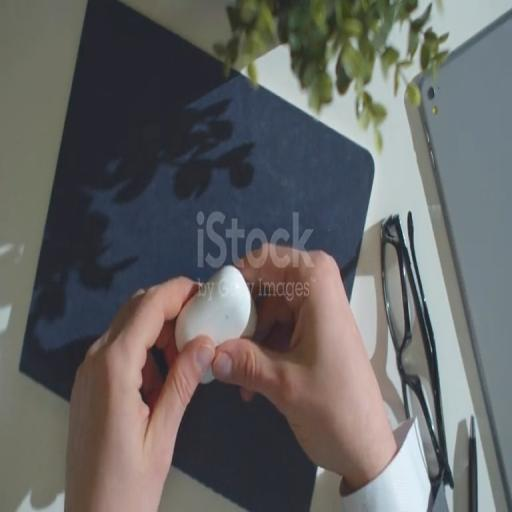earphone: (169, 273, 267, 396)
